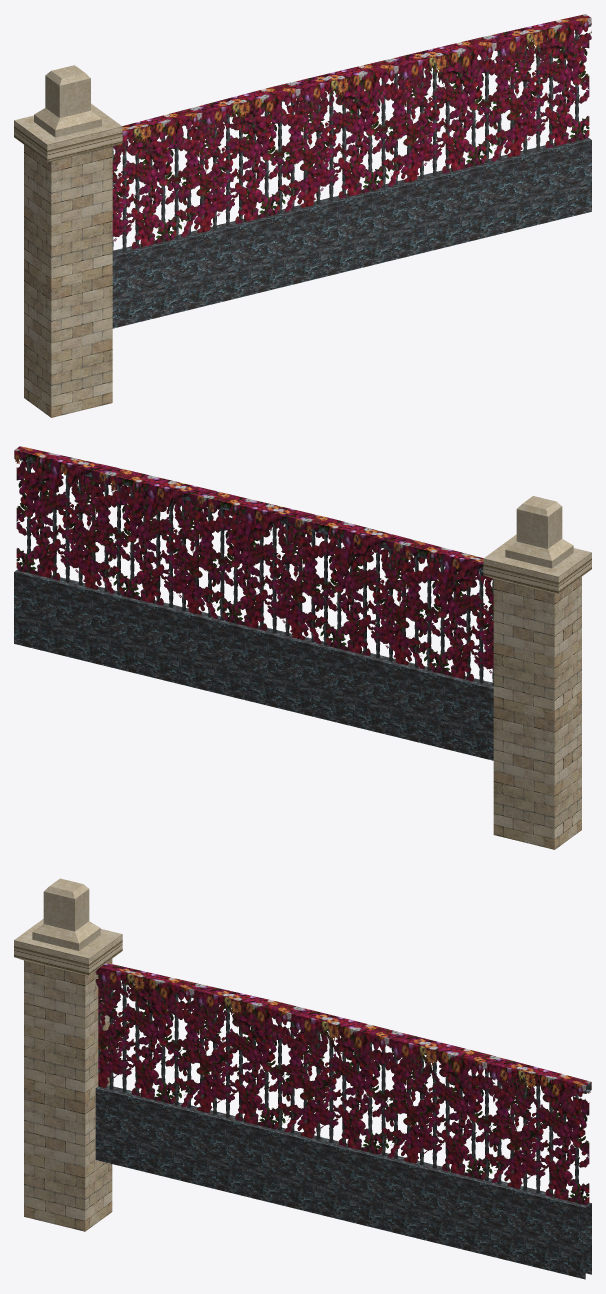
Rendered from thm_nboo_imprv_lattice_wall_long_s01_l1.fbx.
3 renders of one model, top to bottom at view 1: azimuth 30°, elevation 25°; view 2: azimuth 150°, elevation 25°; view 3: azimuth 330°, elevation 25°, orthographic.
Visible parts, largest first — view 1: mesh_node; view 2: mesh_node; view 3: mesh_node.
Part boxes in pixels (box(x1,y1,x2,y2)): mesh_node: box(14, 14, 591, 417); mesh_node: box(14, 446, 591, 849); mesh_node: box(14, 878, 591, 1279).
Size of the model in its own units: 9.11 by 5.14 by 0.9445.
